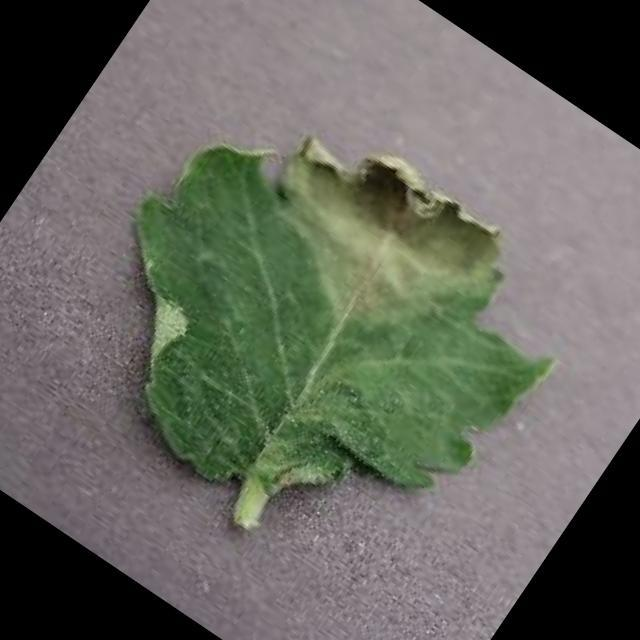Tomato late blight leaf: (31, 48, 598, 600)
